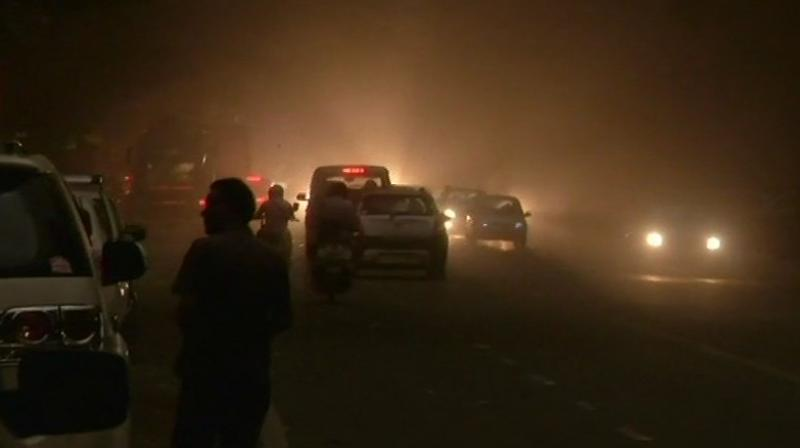car: (3, 144, 142, 445), (65, 171, 138, 338), (296, 165, 389, 270), (621, 189, 732, 274), (354, 185, 446, 280), (465, 194, 531, 247), (436, 183, 484, 238)
motorcycle: (303, 220, 356, 302), (252, 212, 293, 263)
person: (166, 183, 298, 447), (310, 185, 362, 277), (261, 181, 295, 242)
truck: (132, 112, 243, 222)
